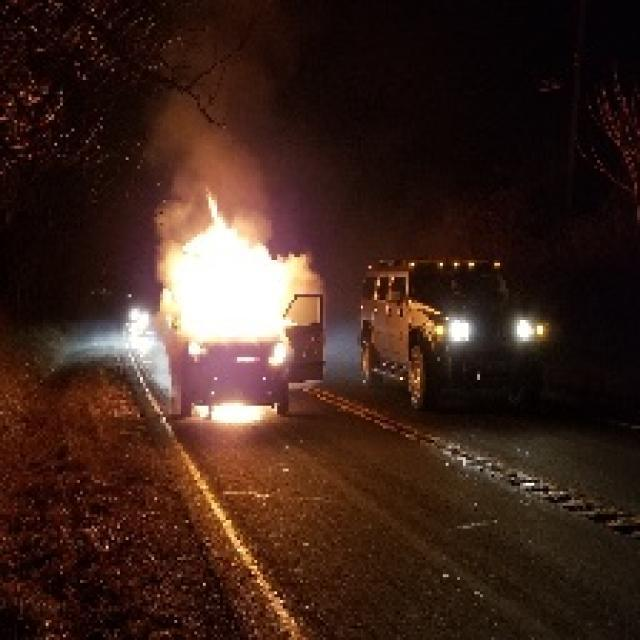Fire: (162, 217, 294, 342)
Smoke: (154, 84, 272, 215)
